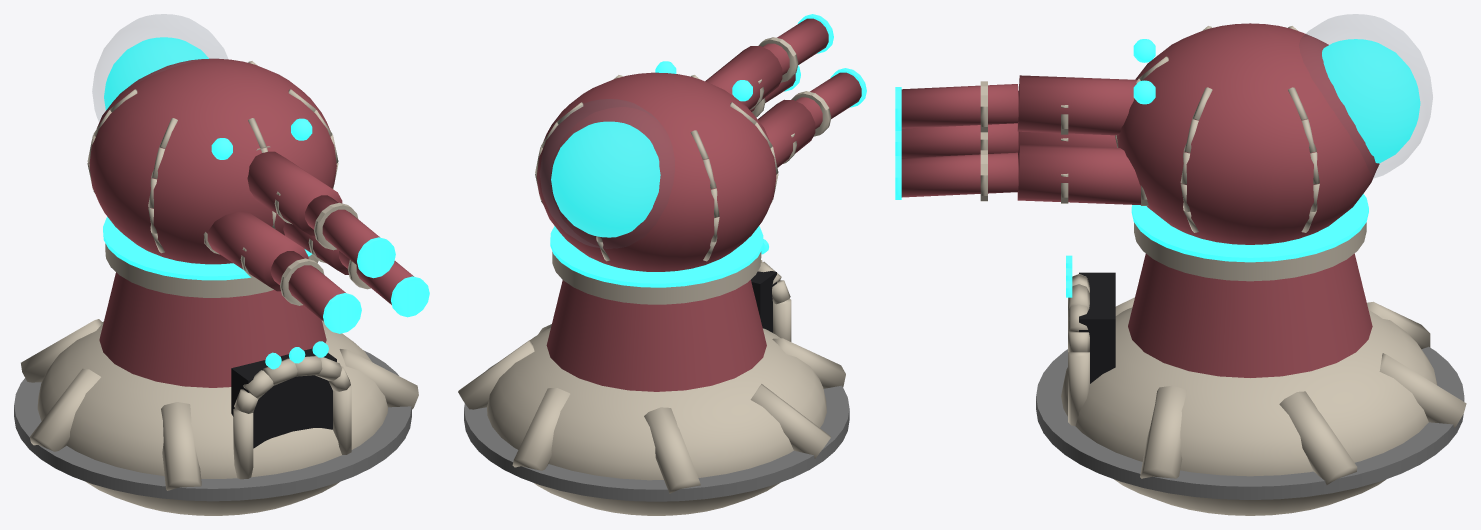
The model's file is GooGun_T3_Spitter.glb.
The picture shows the model from 3 angles, left to right: view 1: azimuth 30°, elevation 25°; view 2: azimuth 150°, elevation 25°; view 3: azimuth 270°, elevation 25°; orthographic projection. The views are drawn at different scales.
Visible parts, largest first — view 1: GooGun_T3_Spitter_Base, GooGun_T3_Spitter_Turret; view 2: GooGun_T3_Spitter_Base, GooGun_T3_Spitter_Turret; view 3: GooGun_T3_Spitter_Base, GooGun_T3_Spitter_Turret.
Part boxes in pixels (box(x1,y1,x2,y2)): GooGun_T3_Spitter_Base: box(14, 217, 418, 515); GooGun_T3_Spitter_Turret: box(87, 14, 429, 333); GooGun_T3_Spitter_Base: box(458, 226, 849, 515); GooGun_T3_Spitter_Turret: box(535, 14, 866, 271); GooGun_T3_Spitter_Base: box(1036, 194, 1466, 515); GooGun_T3_Spitter_Turret: box(895, 14, 1432, 244).
Bounding box in the file's own units: 3.56 × 4.19 × 4.67.
